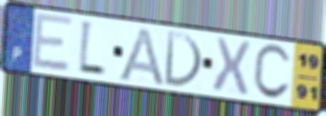A: (115, 25, 167, 88)
C: (251, 43, 293, 103)
D: (161, 29, 205, 90)
E: (31, 10, 75, 74)
L: (76, 18, 108, 80)
X: (210, 35, 253, 97)
